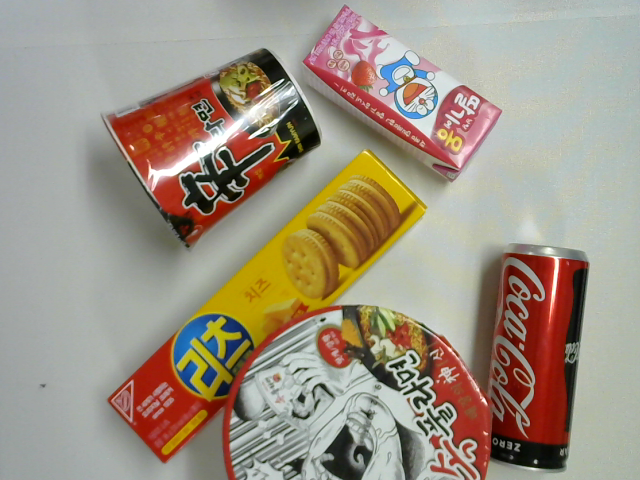Coca_Cola_Zero_Can_250ml: (488, 240, 589, 475)
Hejangpul: (218, 299, 497, 480)
Ritz_Sand_Cracker: (102, 148, 432, 464)
Sinramen_small: (100, 46, 319, 250)
Strawberry_E_Mong: (302, 2, 503, 187)
